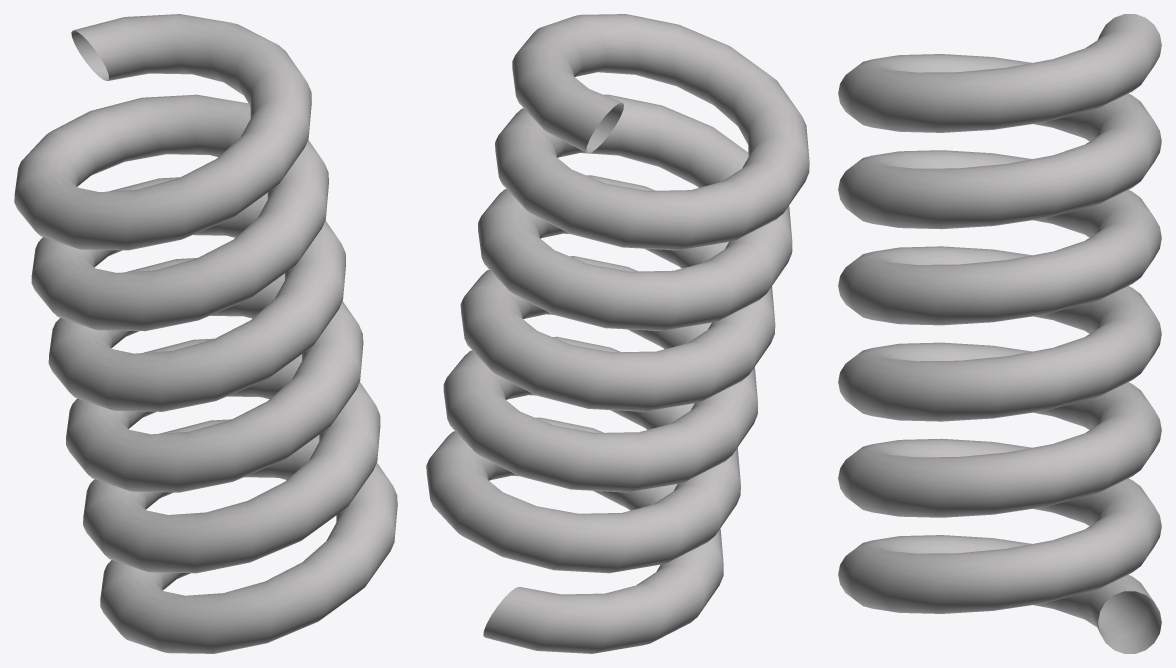
The model's file is RSpring.fbx.
3 views of the same model, side by side, from view 1: azimuth 30°, elevation 25°; view 2: azimuth 150°, elevation 25°; view 3: azimuth 270°, elevation 25° (orthographic). The views are drawn at different scales.
Visible parts, largest first — view 1: Cylinder.072; view 2: Cylinder.072; view 3: Cylinder.072.
Part boxes in pixels (left/top/right/bottom): Cylinder.072: left=14, top=14, right=397, bottom=653; Cylinder.072: left=426, top=14, right=809, bottom=653; Cylinder.072: left=838, top=14, right=1161, bottom=653.
Bounding box in the file's own units: 68.08 × 109 × 53.84.
Materials: 1 (1 with a texture image).
